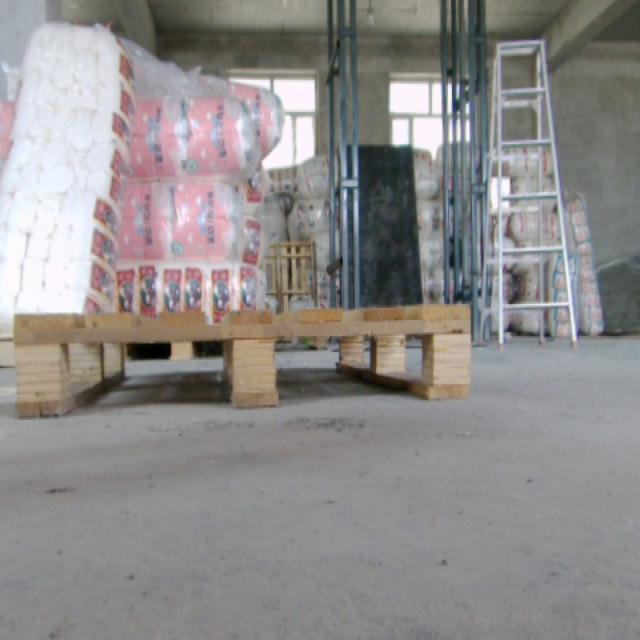block: (9, 315, 66, 419), (224, 315, 278, 407), (433, 311, 478, 396), (374, 335, 406, 376), (333, 335, 362, 370)
front: (9, 305, 476, 418)
